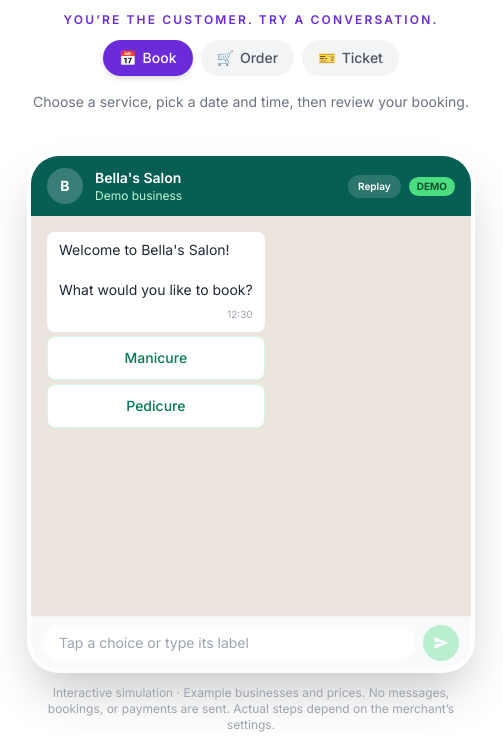
Test: interactive customer demo › retains selected service, date and time and waits for payment before confirming
Click the button "Pedicure" at (156, 406), box x1=47 y1=384 x2=265 y2=428
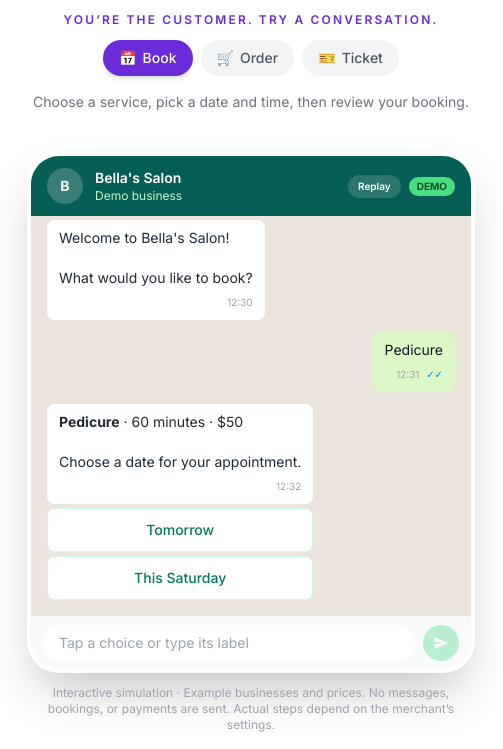
Click the button "This Saturday" at (180, 578), box x1=47 y1=556 x2=313 y2=600
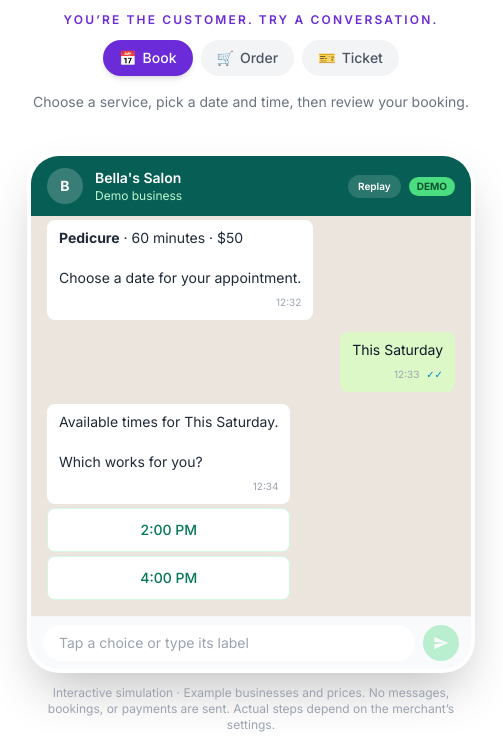
Click the button "4:00 PM" at (169, 578), box x1=47 y1=556 x2=290 y2=600
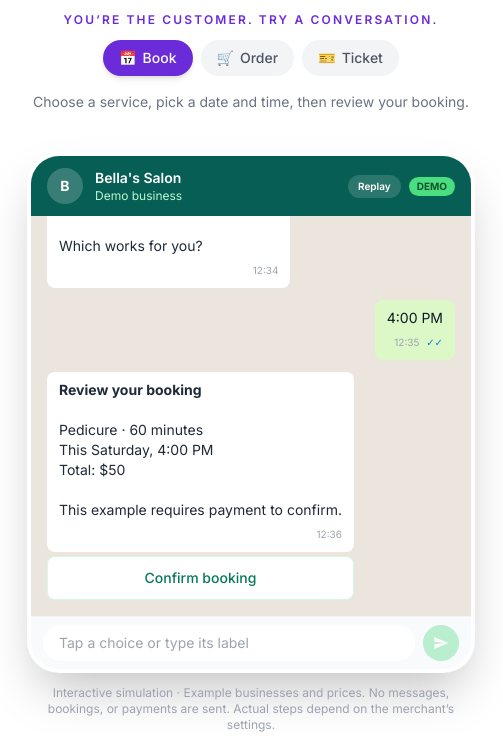
Click the button "Confirm booking" at (200, 578), box x1=47 y1=556 x2=354 y2=600
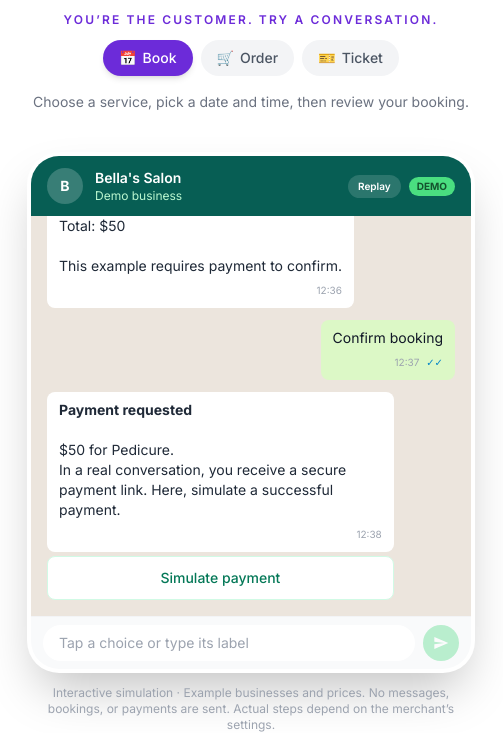
expect the text "Appointment confirmed" is not shown: met
expect the element named "Example WhatsApp conversation" shows "Total: $50": met, box x1=59 y1=177 x2=342 y2=274
expect the element named "Example WhatsApp conversation" shows "This Saturday, 4:00 PM": met, box x1=59 y1=177 x2=342 y2=274
Click the button "Simulate payment" at (220, 578), box x1=47 y1=556 x2=394 y2=600
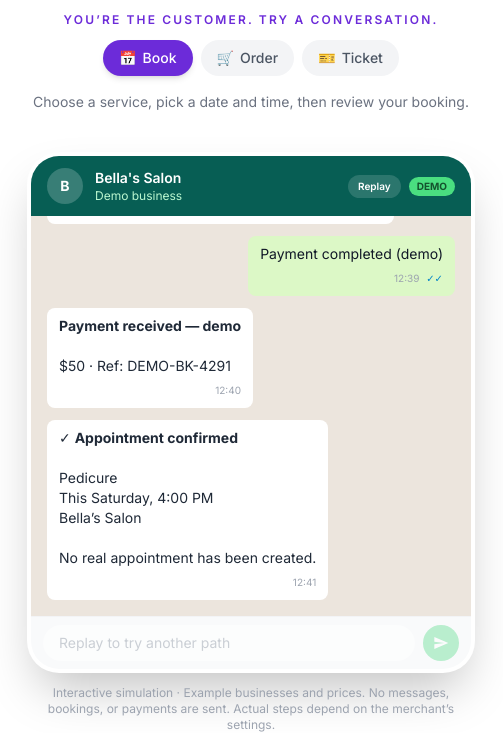
expect the element named "Example WhatsApp conversation" shows "Appointment confirmed": met, box x1=75 y1=429 x2=238 y2=446
